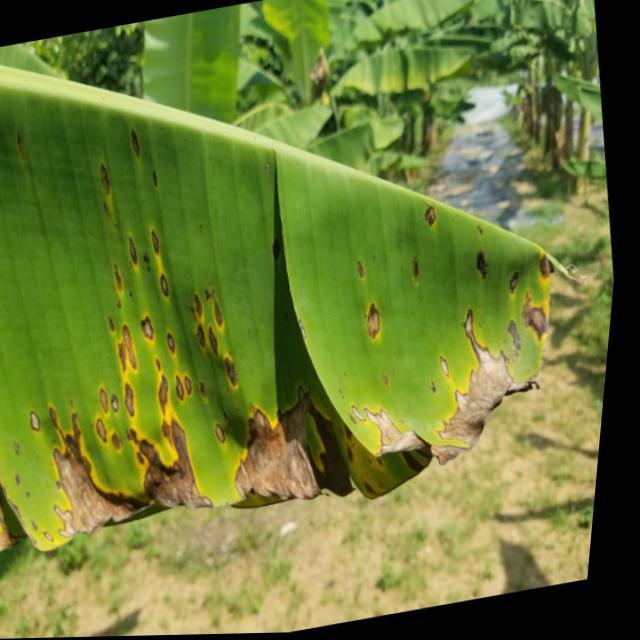Early_rust: (0, 94, 598, 550)
